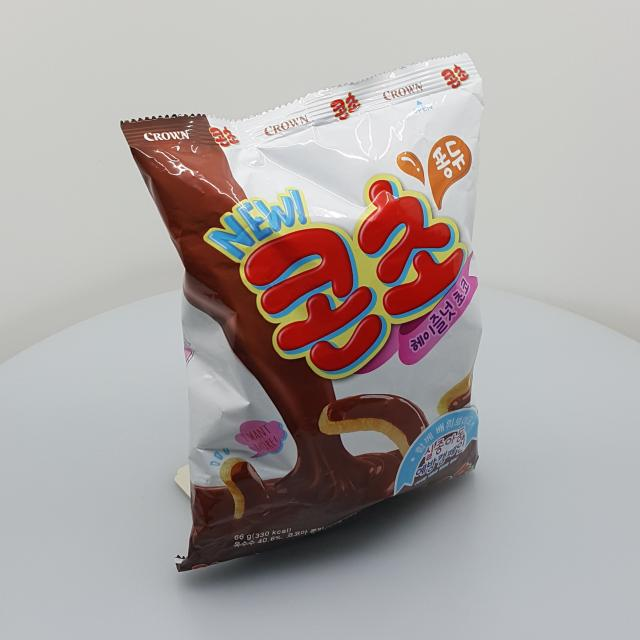-66G: (121, 53, 487, 574)
